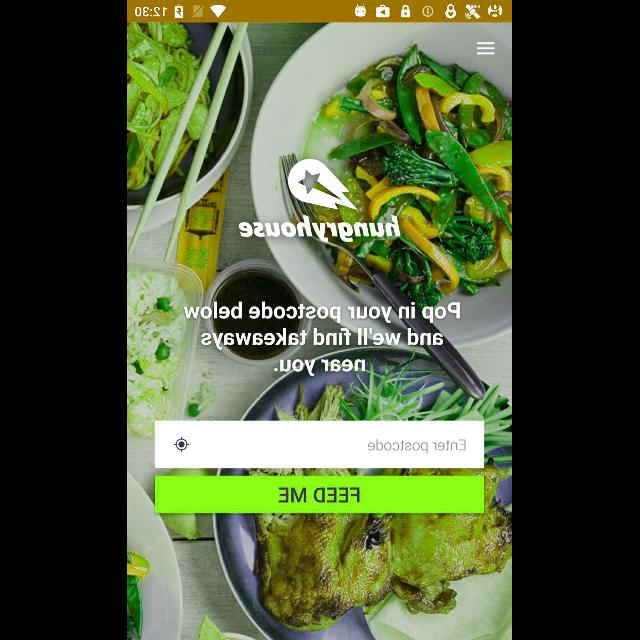backgroundimage: (128, 22, 512, 640)
icon: (478, 42, 496, 56), (174, 438, 190, 452)
image: (288, 159, 358, 211)
input: (155, 421, 485, 469)
text: (184, 302, 462, 376), (239, 214, 401, 242), (369, 439, 467, 453)
textbutton: (156, 476, 484, 512)
uppertaskbar: (128, 1, 512, 23)
